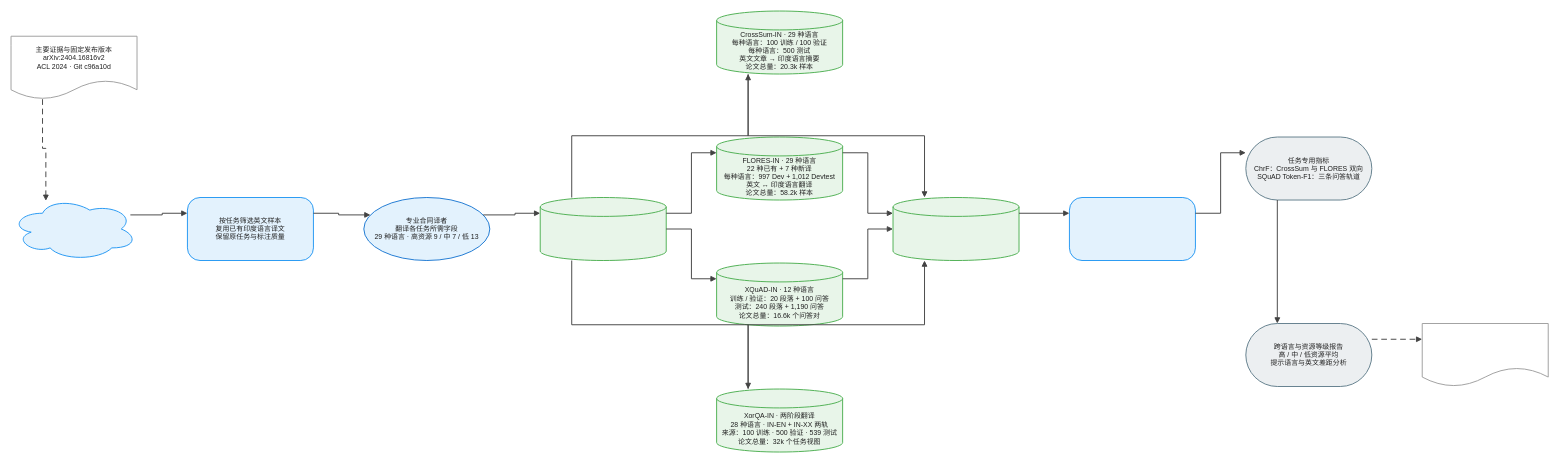
Some shapes in this 1560 by 464 pixel diagram are drawn without their labels. Each missing label, with the centre of its shape:
"主要采用 One-shot 生成评测 任务语言示例 可选 0–5 Shot 与多语言微调" belongs at point 1132,229.
"四个经过质量控制的数据源 CrossSum · FLORES-200 XQuAD / SQuAD · XOR-TyDi" belongs at point 73,229.
"多向平行基准 13 种文字 · 四个语系 数据源允许时提供训练 / 验证 / 测试" belongs at point 602,229.
"官方按任务 / 语言 / 划分发布 JSON 沿用各来源许可证 每个文件包含基准防污染 Canary" belongs at point 955,229.
"论文任务与发布边界 四个发布组件 · 五条论文轨道 XorQA 组件提供 EN + XX 两种视图 按任务指标与资源等级平均值报告" belongs at point 1484,355.
